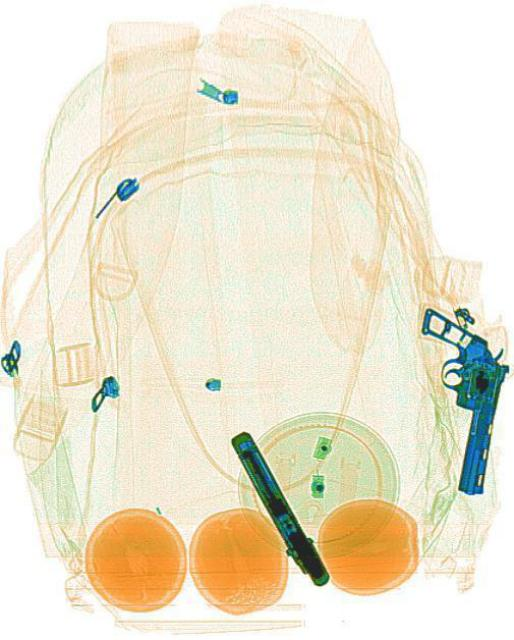Gun: (388, 305, 511, 497), (220, 423, 332, 592)
